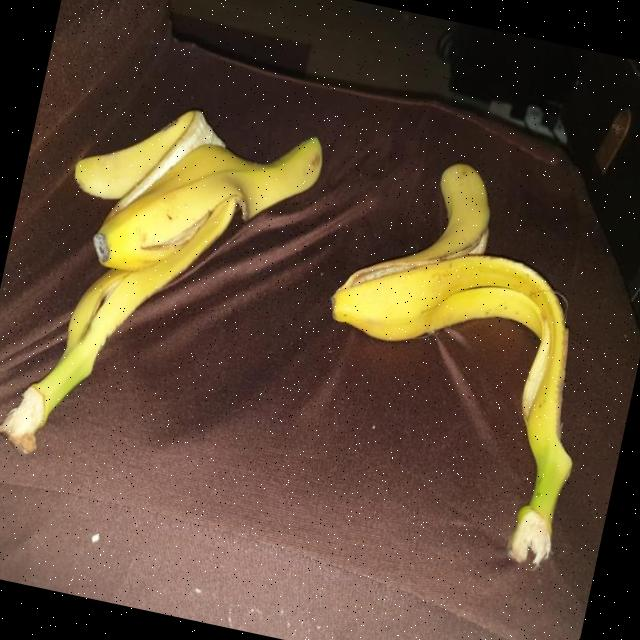banana-peel: (284, 140, 630, 571), (0, 80, 327, 501)
